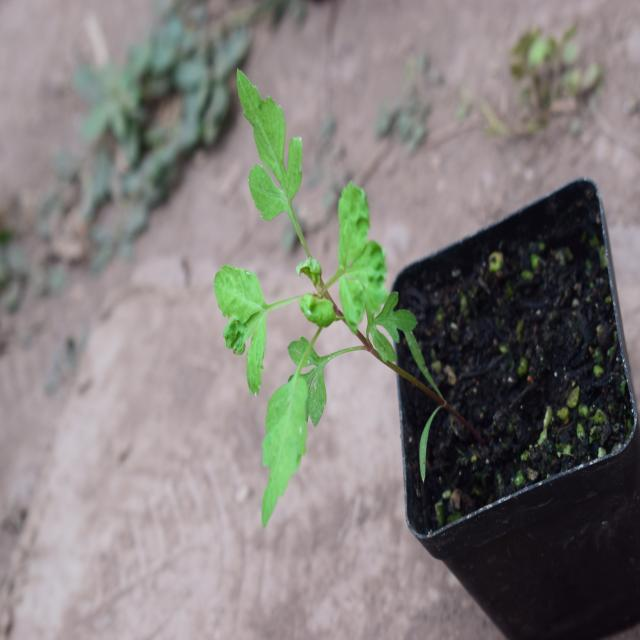Bidens pilosa: (196, 73, 429, 500)
